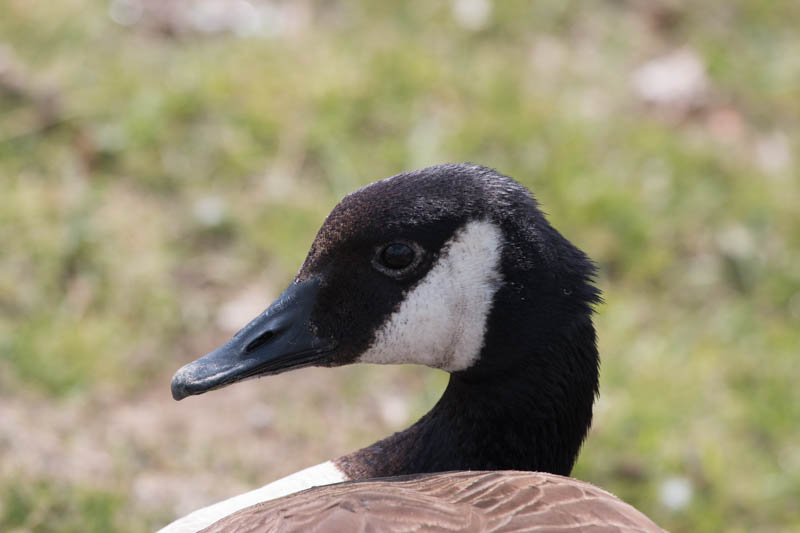goose-head: (171, 163, 599, 402)
